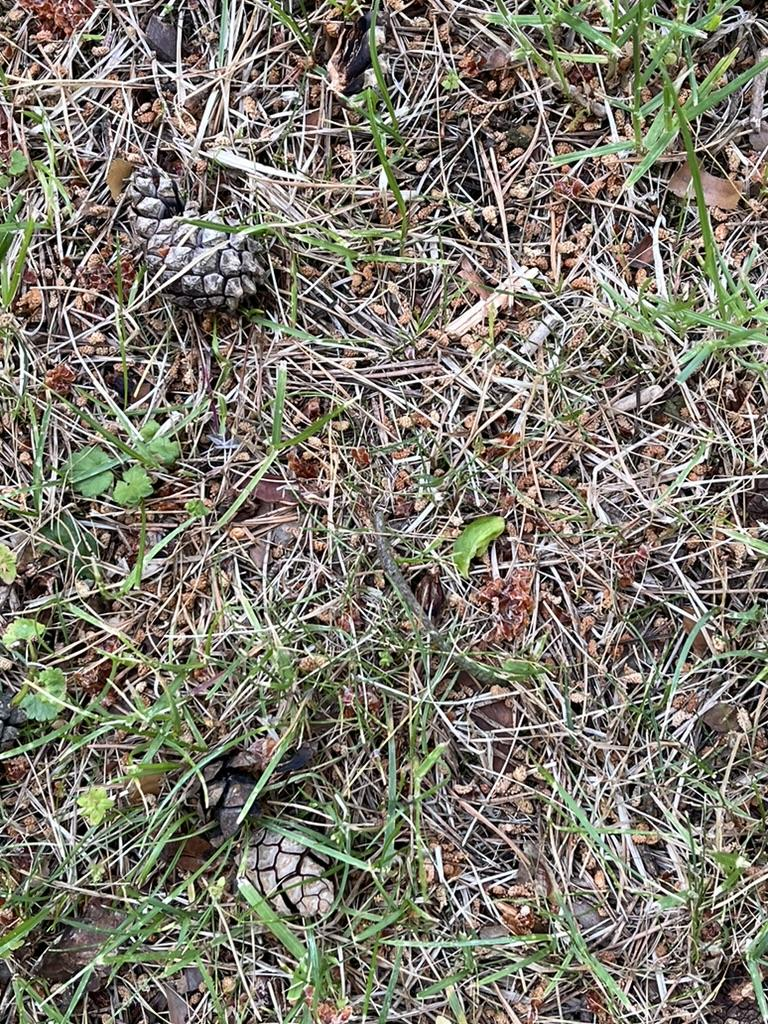pine: (113, 143, 271, 333), (231, 830, 366, 933), (174, 728, 278, 843), (0, 670, 41, 818)
